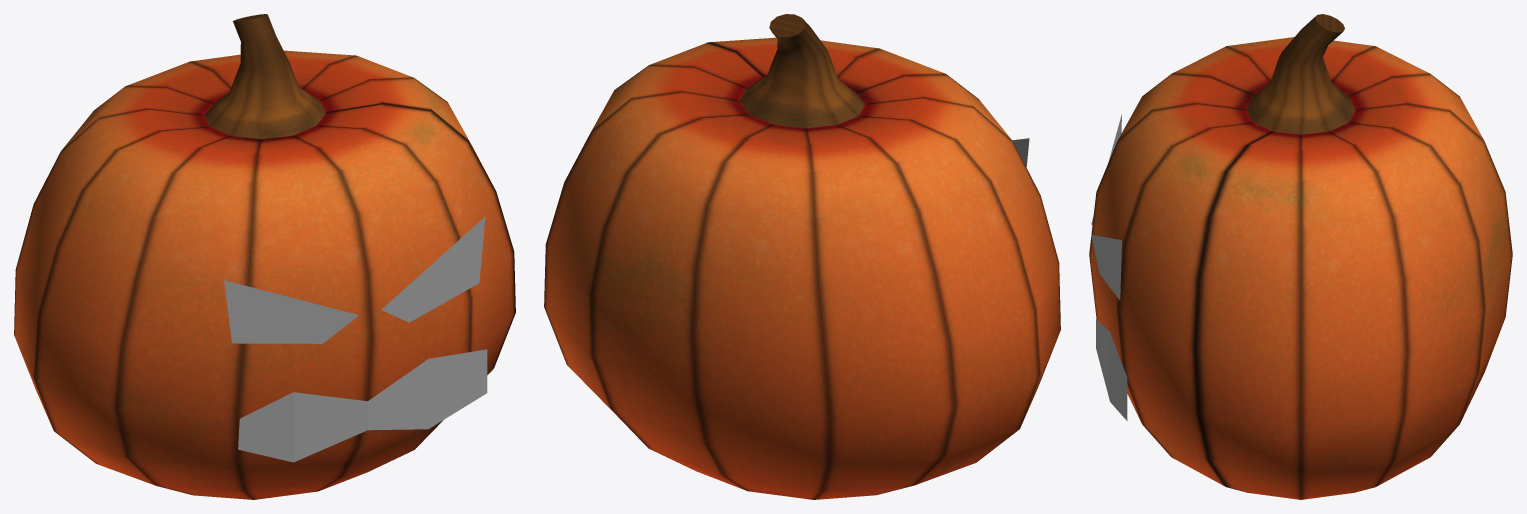
The model's file is pumpkin.fbx.
3 views of the same model, side by side, from view 1: azimuth 30°, elevation 25°; view 2: azimuth 150°, elevation 25°; view 3: azimuth 270°, elevation 25° (orthographic). The views are drawn at different scales.
Parts seen in each view (by area): view 1: Shell, Mouth, Eyes; view 2: Shell; view 3: Shell, Mouth, Eyes.
Boxes of the visible parts, bbox=[...] form: Shell: bbox=[14, 14, 515, 499]; Mouth: bbox=[238, 349, 487, 462]; Eyes: bbox=[224, 217, 485, 343]; Shell: bbox=[544, 14, 1060, 499]; Shell: bbox=[1089, 14, 1512, 499]; Mouth: bbox=[1096, 318, 1127, 420]; Eyes: bbox=[1091, 114, 1121, 300].
Bounding box in the file's own units: 6.91 × 6.45 × 5.52.
